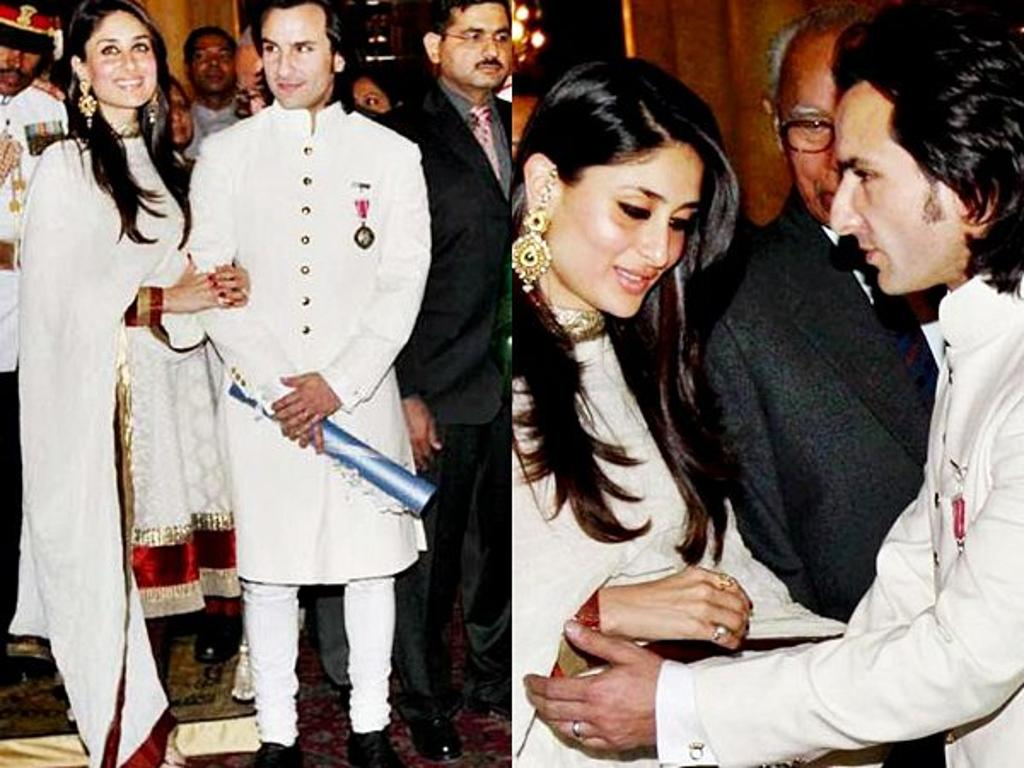face: (564, 149, 705, 319), (830, 98, 947, 295), (772, 38, 892, 229), (261, 16, 330, 109), (88, 23, 159, 109), (445, 9, 510, 86), (349, 81, 395, 136), (1, 31, 39, 95), (191, 35, 232, 91), (163, 88, 191, 142)
